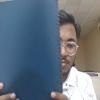notebook: (0, 0, 63, 99)
